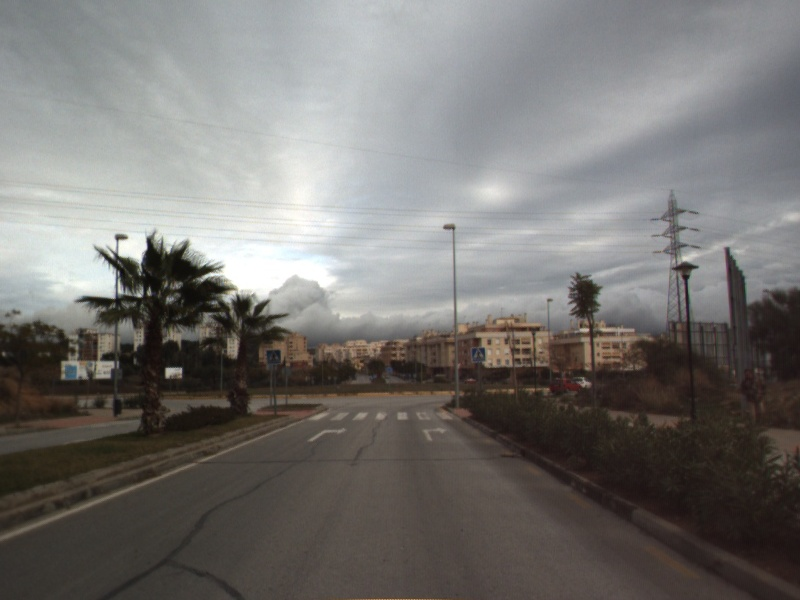RIGHT: (305, 426, 349, 444), (420, 425, 449, 443)
